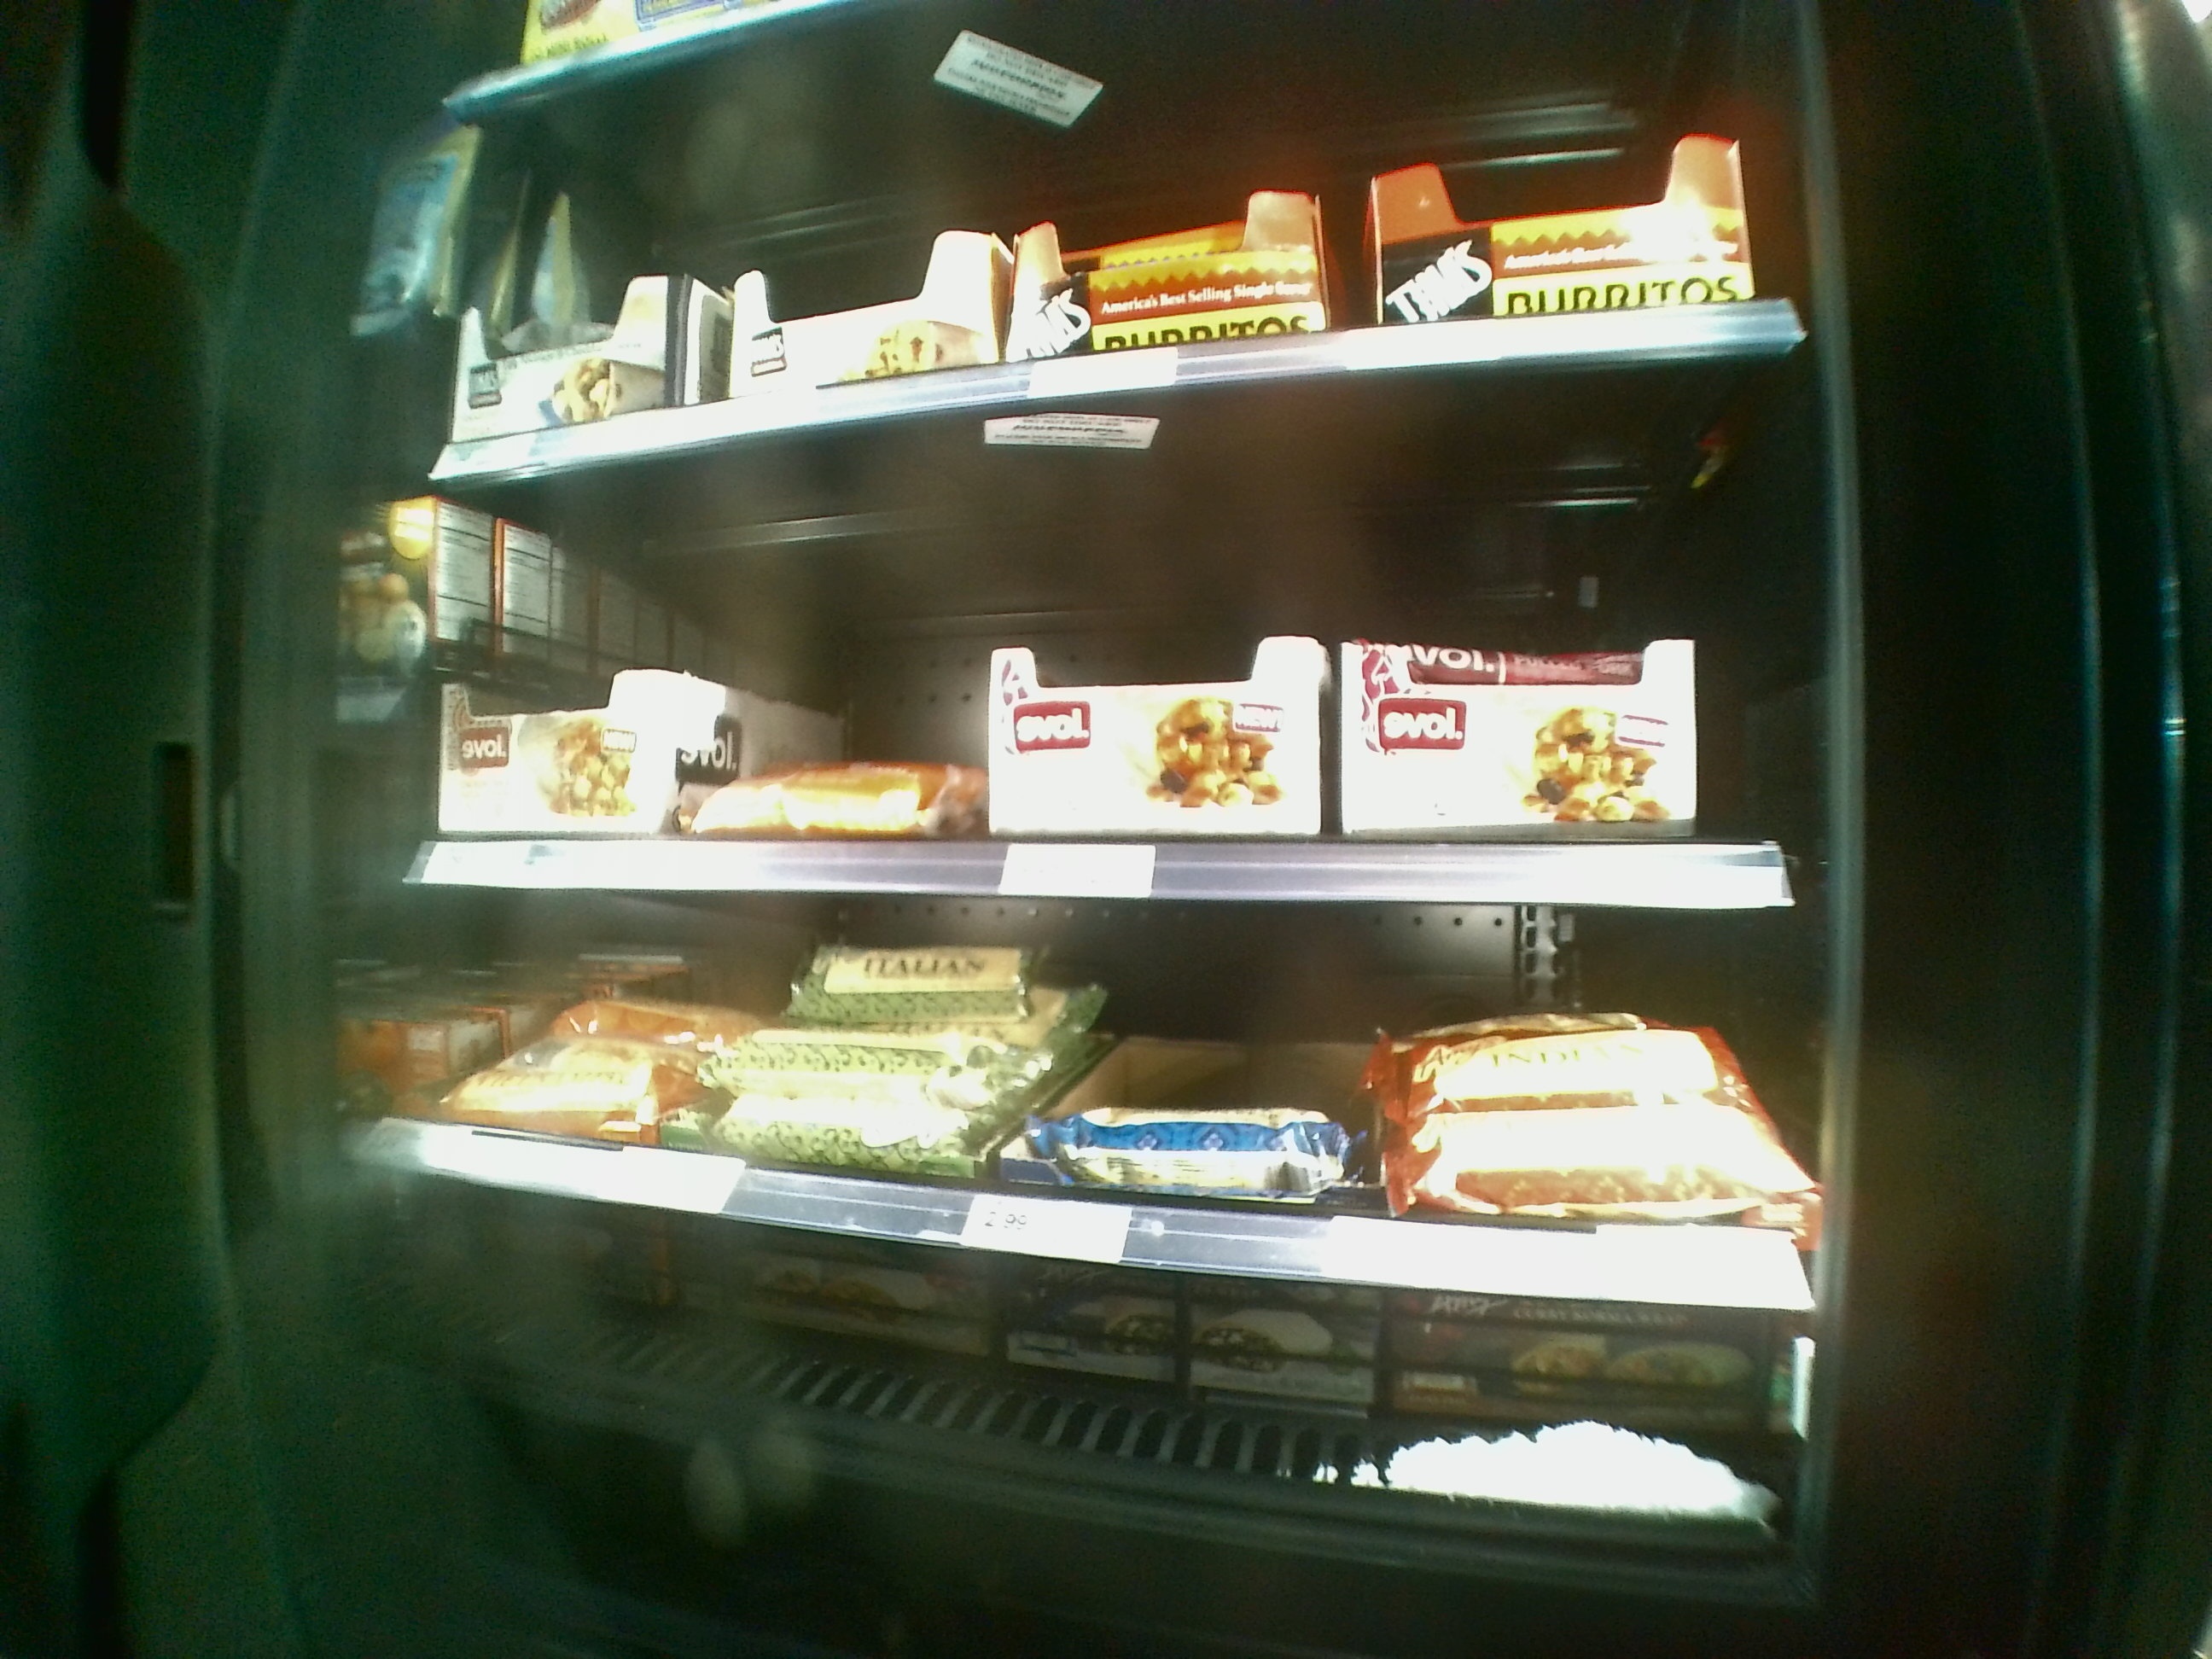shelf: (409, 924, 1806, 1474), (446, 0, 1829, 465), (420, 483, 1829, 939)
